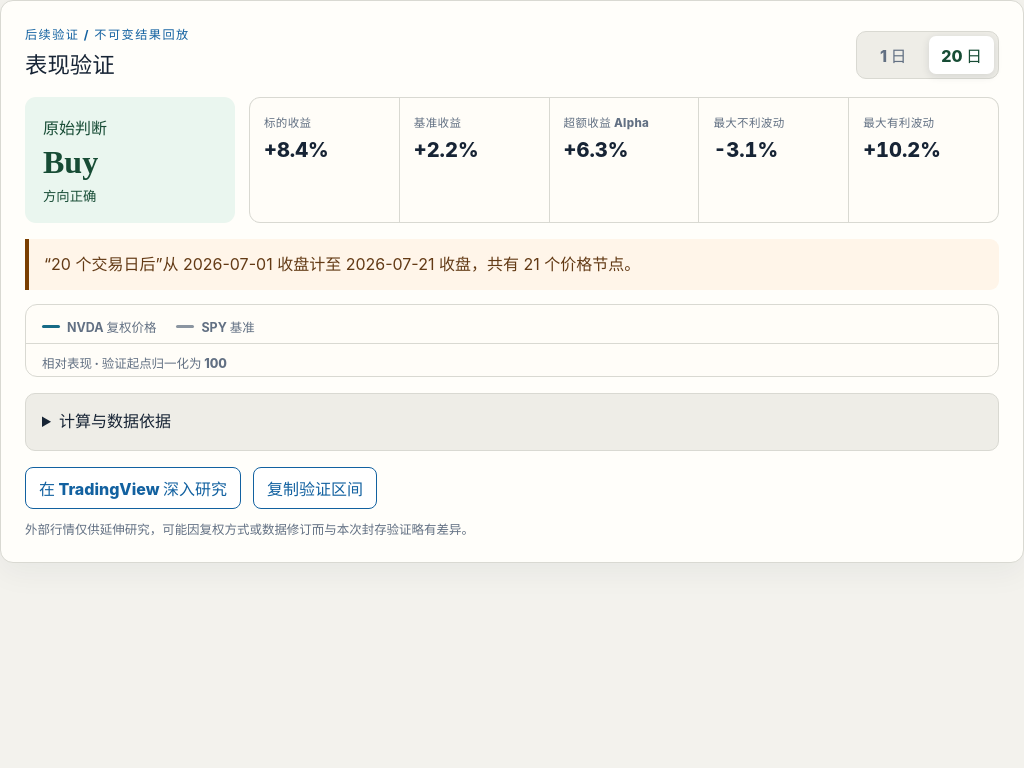
switches horizons without mixing bound artifacts
Expected: the element with test id "validation-chart" is shown, [25,304,999,377]
Click the button "1 日" at (893, 55), box [861,36,925,74]
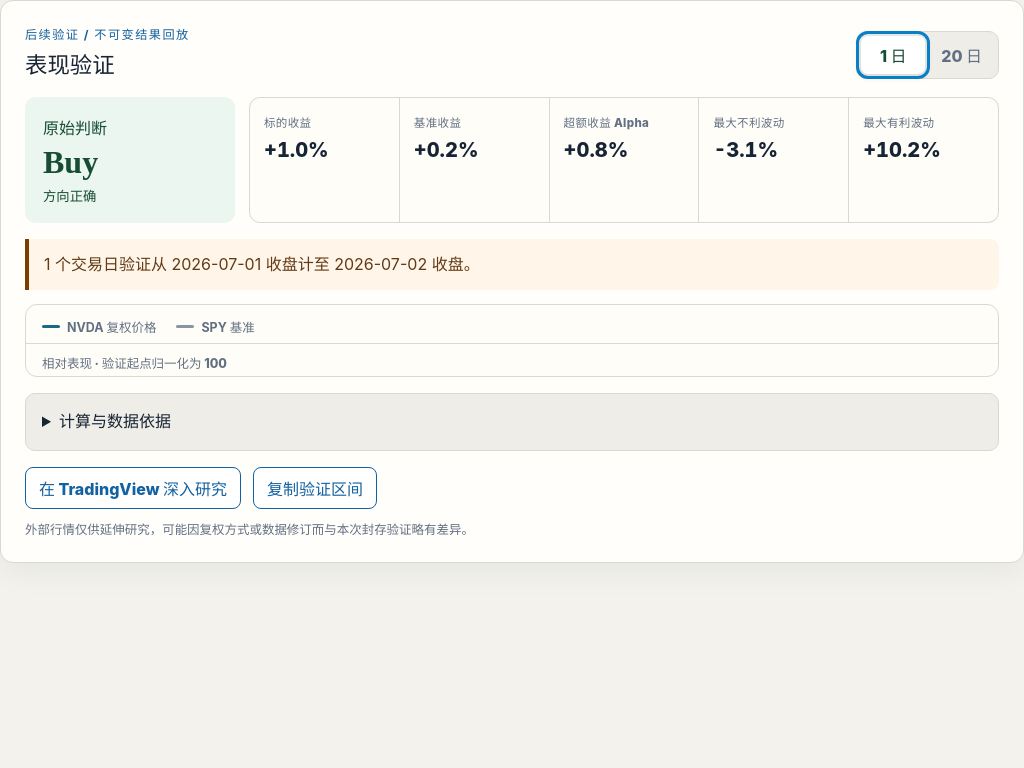
Expected: the text "+1.0%" is shown, [264,138,329,162]
